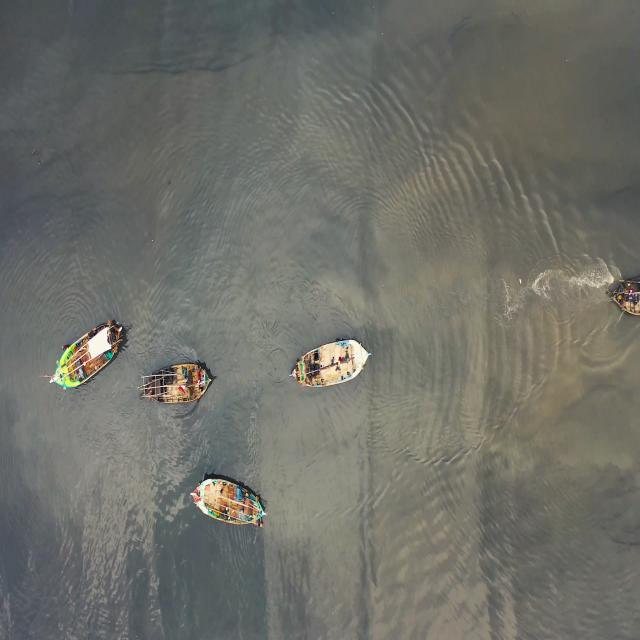ship: (45, 312, 129, 401), (288, 330, 372, 393), (187, 468, 269, 532), (141, 362, 215, 409), (608, 271, 638, 327)
